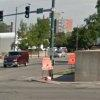Traffic light: (23, 2, 41, 26)
